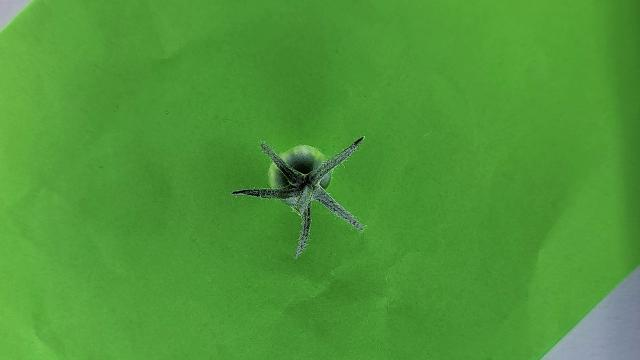Fruit Maturation: (271, 145, 330, 193)
